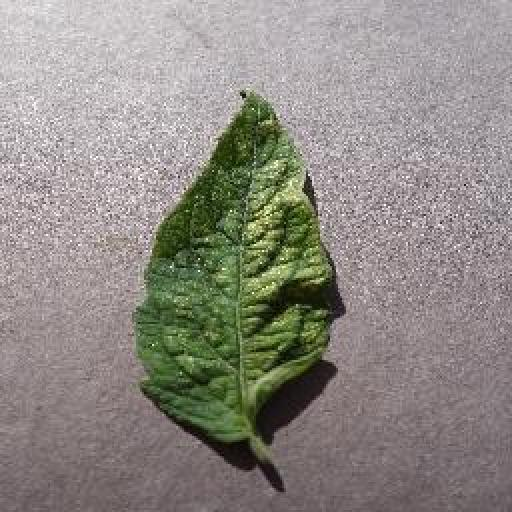Spider Mites: (136, 89, 350, 440)
